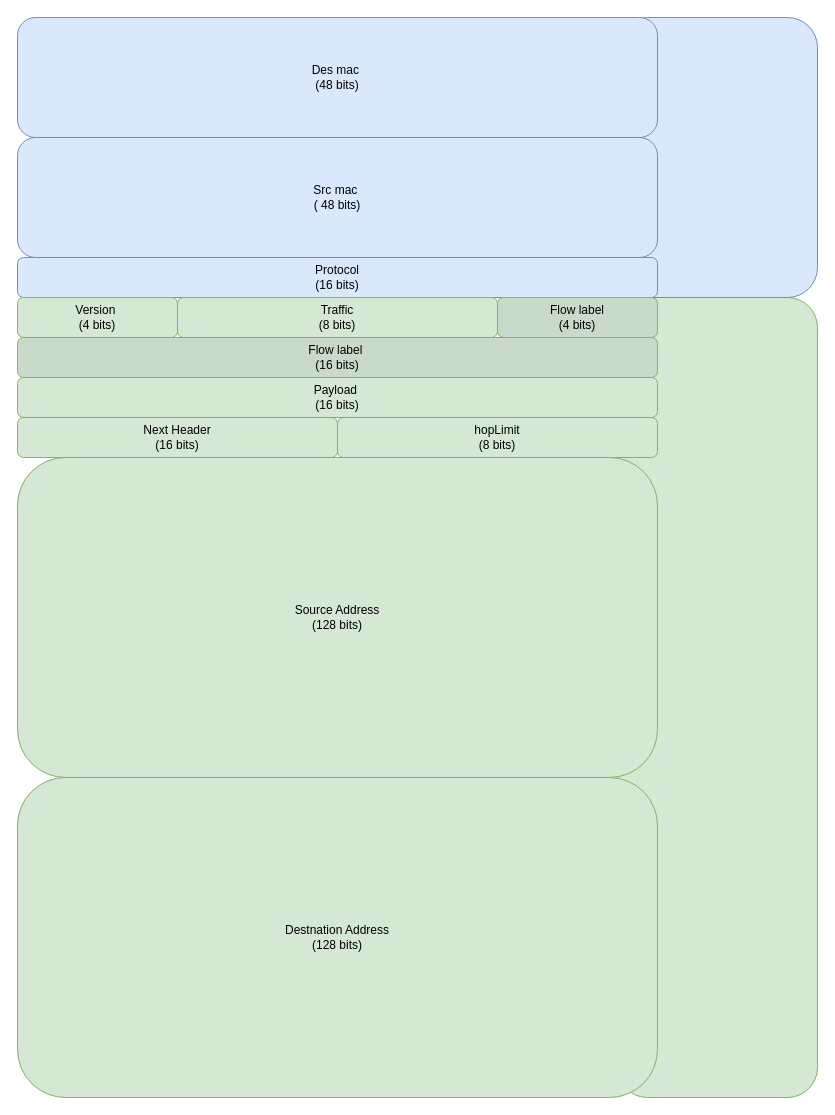
Some shapes in this 835 by 1115 pixel diagram are drawn without their labels. Here are the shapes that lost their labels. From the top down, the centre of each, then its label:
At (x=717, y=157): "ethhdr".
At (x=717, y=697): "Ip6hdr".
